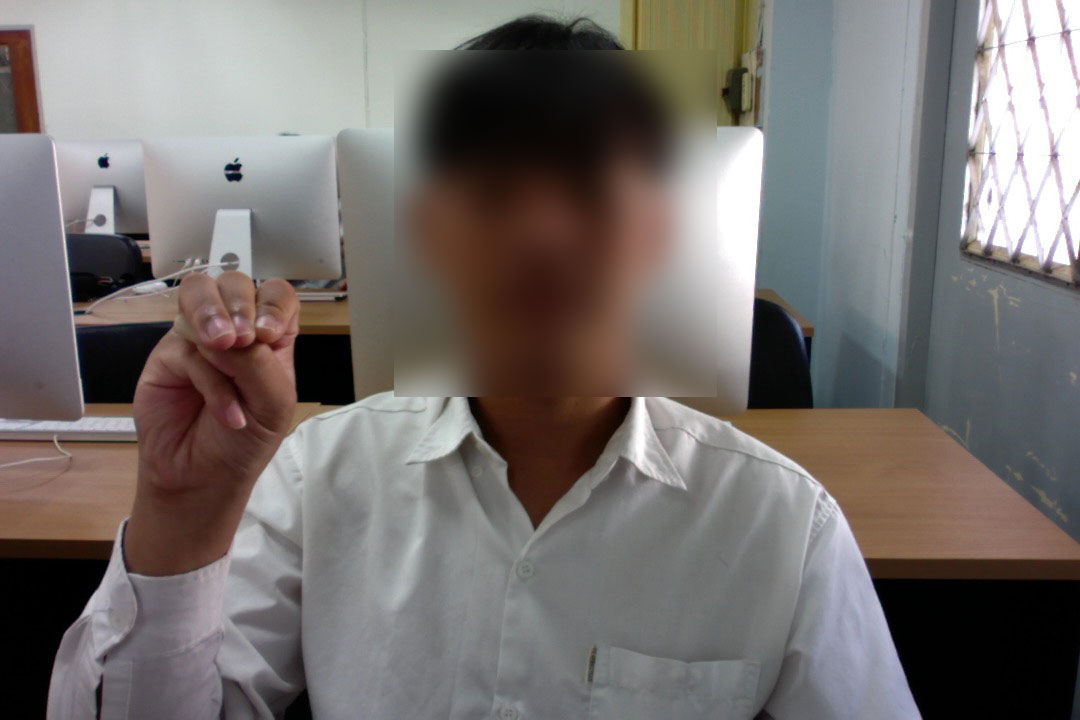mor: (128, 261, 305, 507)
